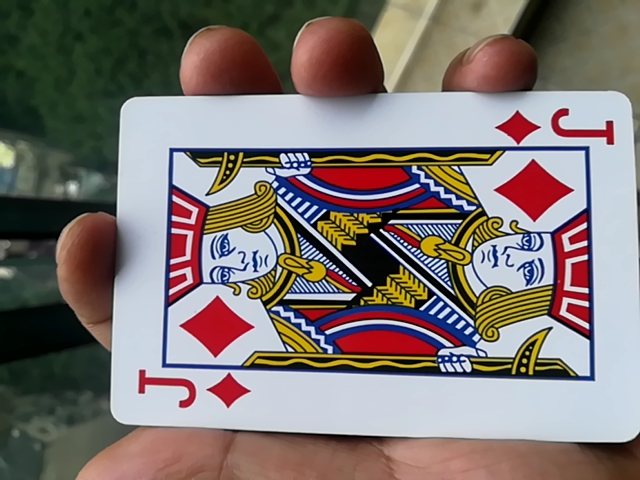fk j: (94, 104, 635, 445)
